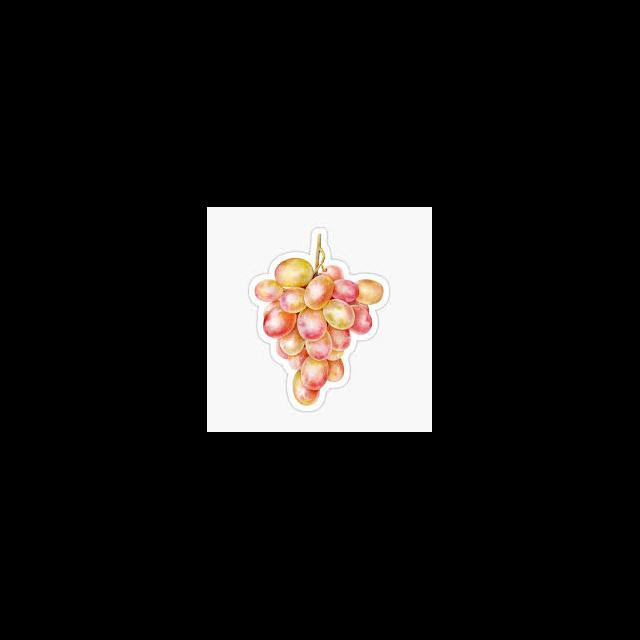grape: (254, 256, 384, 406)
